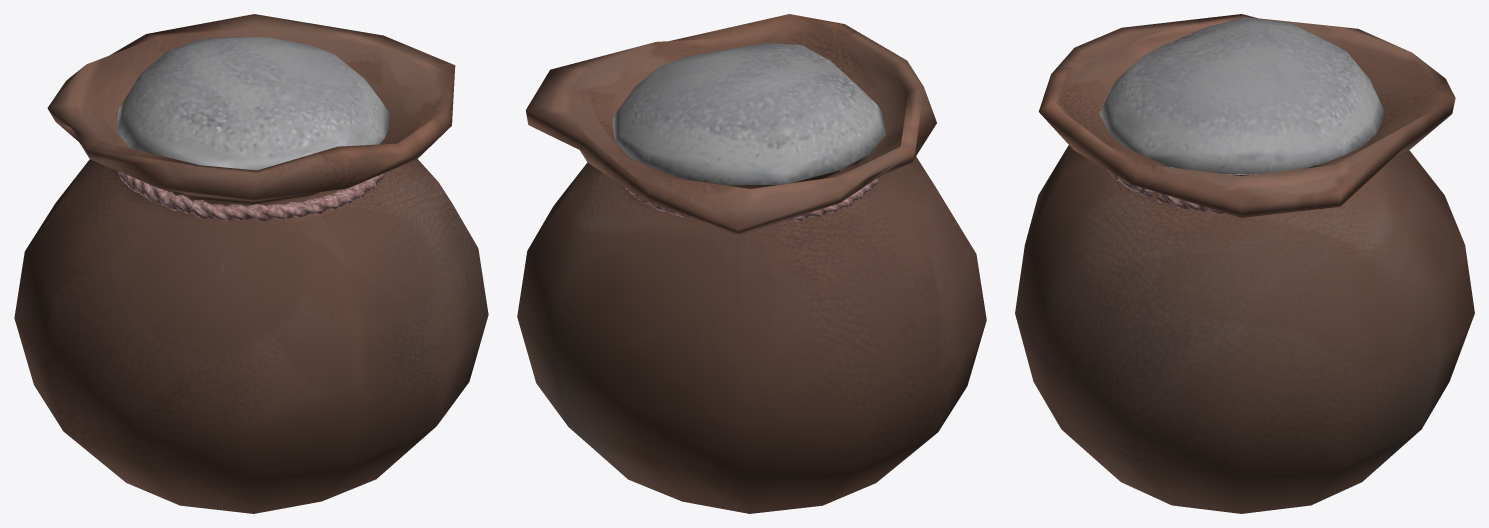
Rendered from bag_Of_SilverP.fbx.
3 views of the same model, side by side, from view 1: azimuth 30°, elevation 25°; view 2: azimuth 150°, elevation 25°; view 3: azimuth 270°, elevation 25° (orthographic). The views are drawn at different scales.
Parts seen in each view (by area): view 1: Bag, Bag.001, BézierCircle; view 2: Bag, Bag.001, BézierCircle; view 3: Bag, Bag.001, BézierCircle.
Part boxes in pixels (x1,y1,x2,y2): Bag: (14, 14, 488, 513); Bag.001: (116, 36, 390, 170); BézierCircle: (118, 171, 385, 221); Bag: (517, 14, 986, 513); Bag.001: (612, 43, 885, 185); BézierCircle: (623, 175, 882, 222); Bag: (1015, 14, 1474, 513); Bag.001: (1099, 17, 1385, 174); BézierCircle: (1107, 170, 1226, 213).
Bounding box in the file's own units: 325 × 307 × 305.
